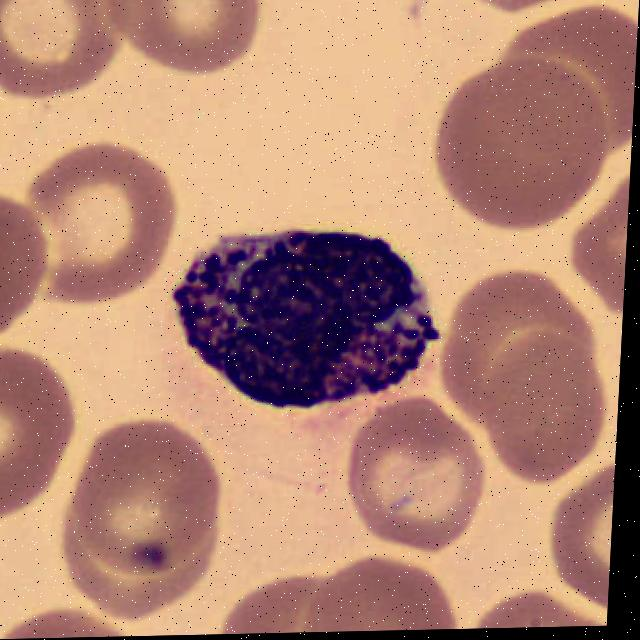basophil: (168, 208, 445, 398)
rbc: (430, 266, 612, 474), (420, 42, 609, 238), (66, 417, 231, 588), (16, 135, 181, 303), (349, 393, 496, 555), (47, 489, 228, 618), (499, 8, 639, 158), (476, 314, 605, 473), (0, 336, 86, 544), (285, 549, 467, 633), (97, 0, 274, 76), (541, 458, 616, 627), (0, 0, 126, 95), (562, 166, 631, 318), (218, 571, 383, 634), (0, 189, 58, 345), (0, 590, 168, 640), (468, 582, 609, 629), (443, 0, 606, 6)
